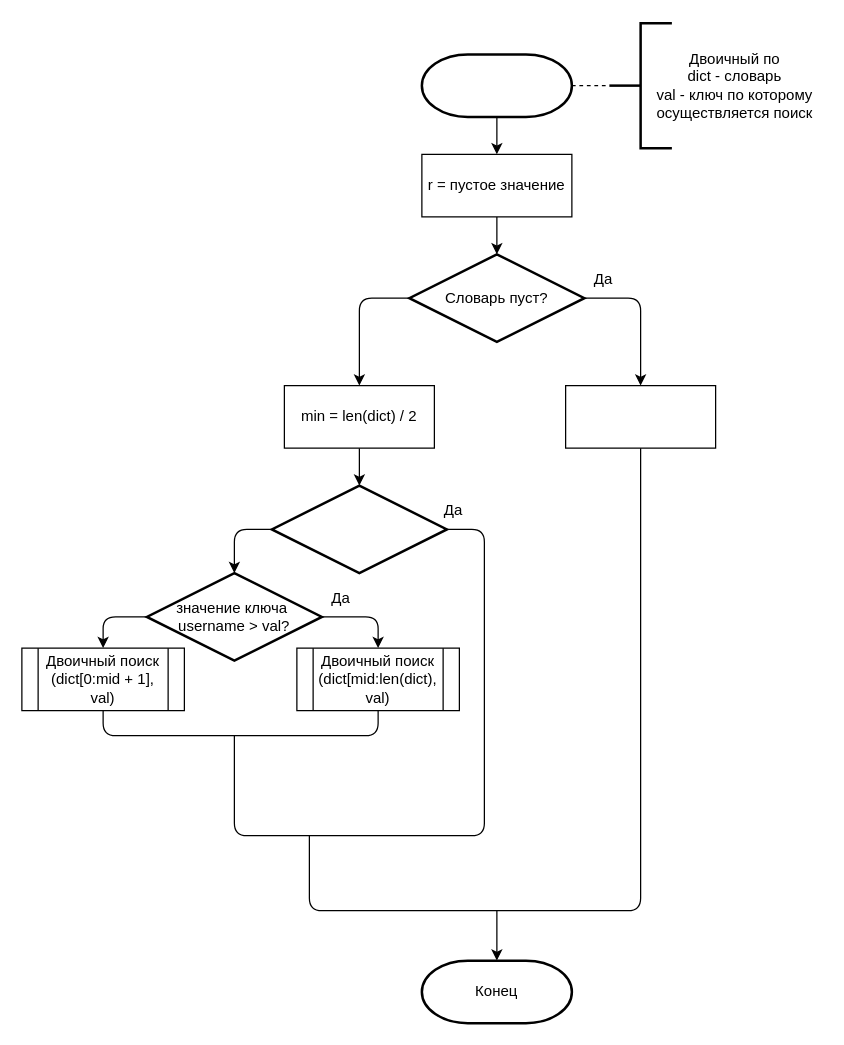
This 844x1045 diagram has some shape labels left out. Here are the shapes that lost their labels. From the top down, the centre of each, then its label:
At [496,85]: "Начало".
At [640,416]: "r = текущий элемент словаря".
At [359,529]: "значение ключа username = val?".
